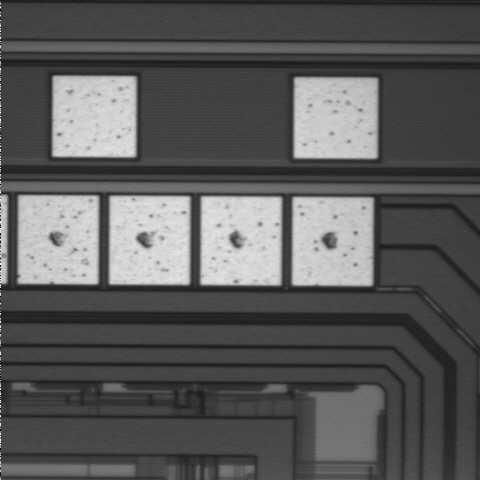pad: (18, 196, 98, 284), (110, 196, 190, 284), (201, 197, 281, 285), (293, 198, 372, 285), (53, 76, 136, 157), (294, 78, 377, 158)
